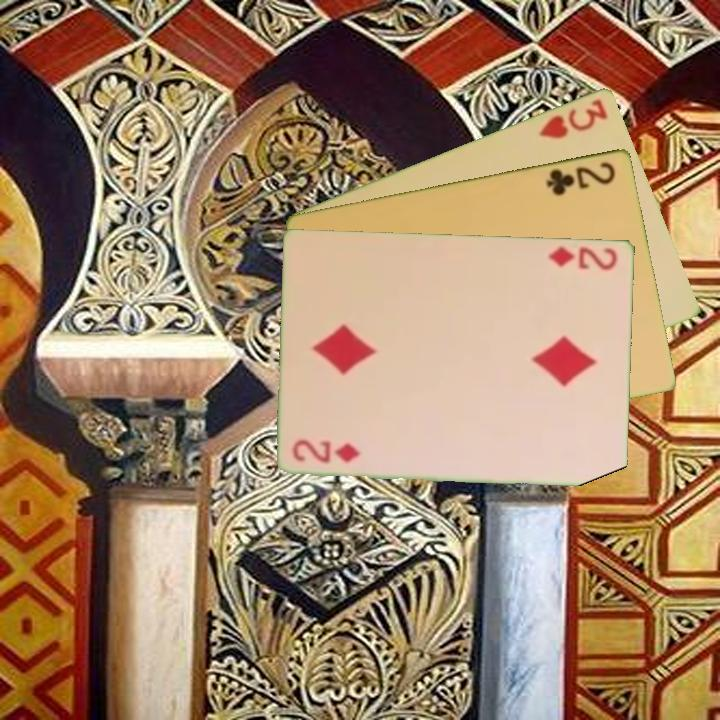2c: (543, 157, 619, 198)
2d: (545, 242, 620, 273), (289, 438, 364, 466)
3h: (536, 94, 611, 141)
